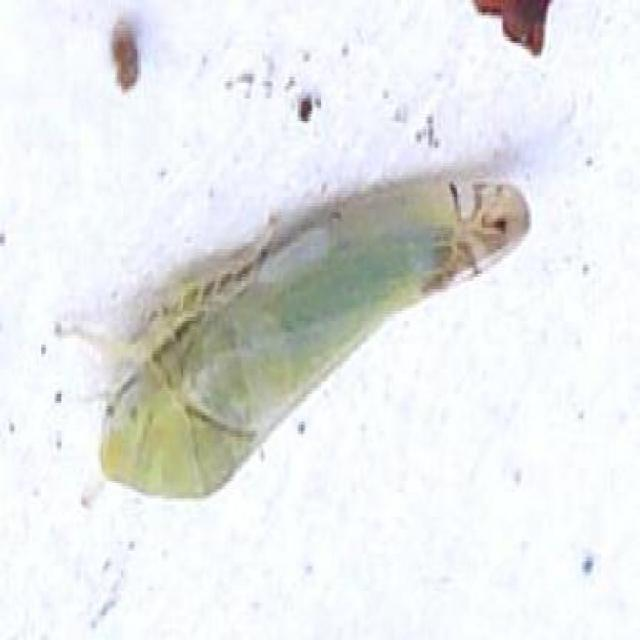green-leafhopper: (51, 174, 531, 498)
